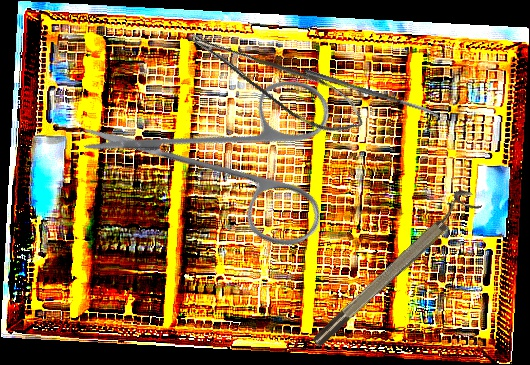Fixation Ring: (303, 184, 483, 351)
Iris Scissors: (75, 1, 386, 312)
Micro Scissor: (183, 2, 373, 152)
Surgical Spoon: (302, 68, 445, 120)
